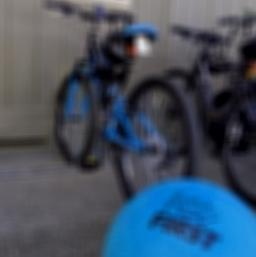algae: (101, 175, 256, 257)
